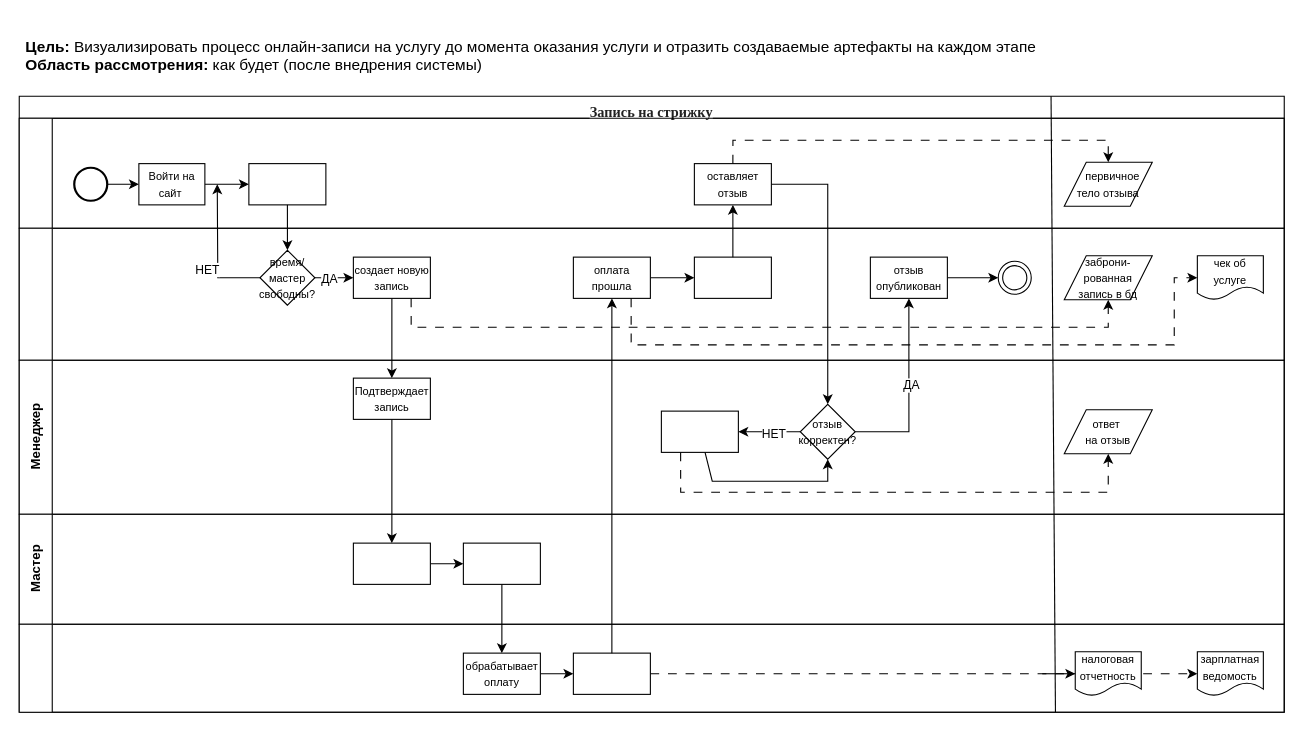
This 1304x733 diagram has some shape labels left out. Here are the shapes that lost their labels. From the top down, the box of each, then its label:
(248, 163, 326, 205): выбрать: услугу/время мастера
(18, 117, 1284, 228): Клиент
(18, 227, 1284, 360): Система онлайн-записи
(693, 256, 771, 298): отправляет запрос на отзыв
(660, 410, 738, 452): модерирует отзыв
(352, 542, 430, 584): получает уведомление о записи
(462, 542, 540, 584): оказывает услугу
(572, 652, 650, 694): создает отчет
(18, 623, 1284, 712): Бухгалтер
